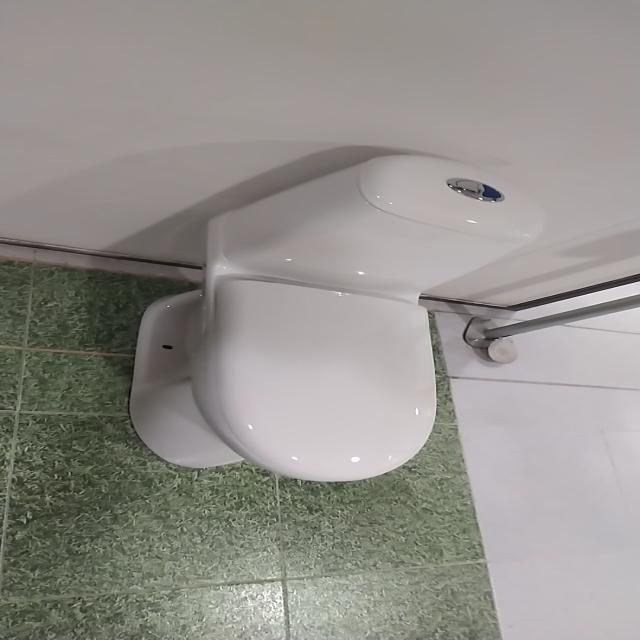toilet: (127, 153, 546, 482)
